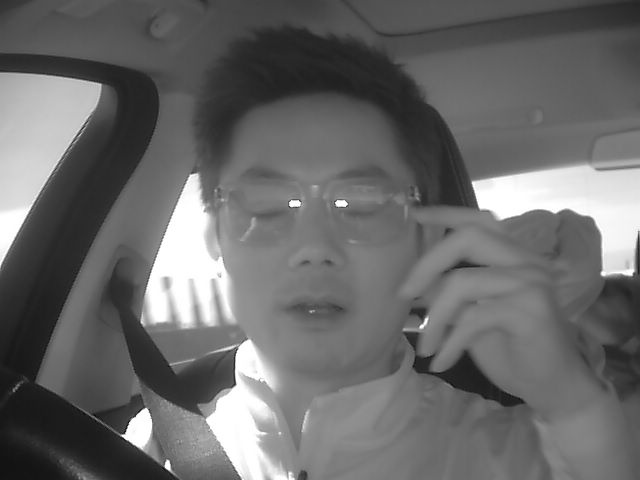hand: (404, 191, 587, 427)
